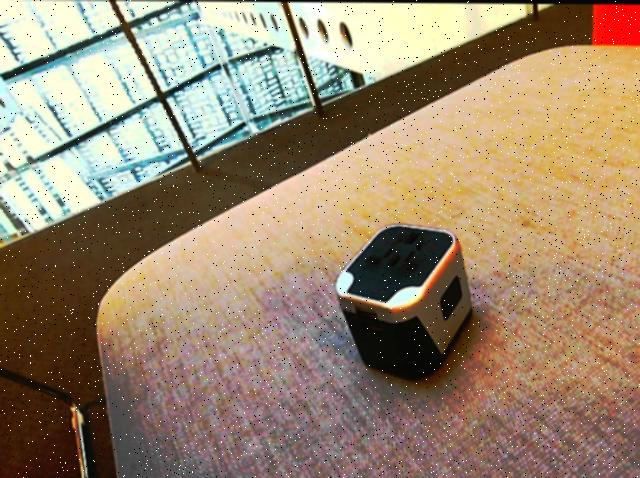adapter: (334, 222, 472, 379)
